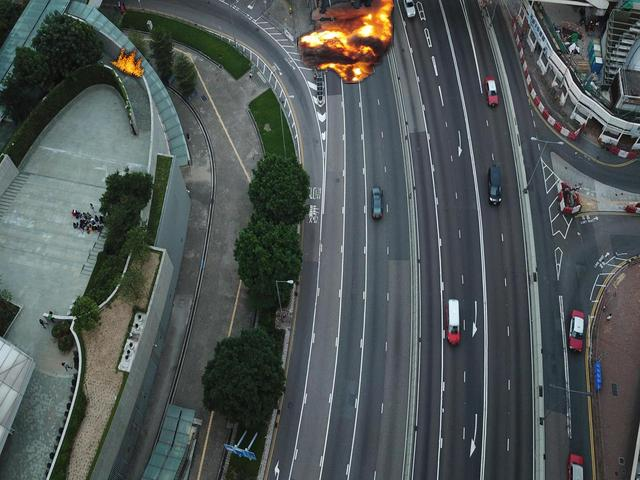fire: (298, 1, 393, 82), (107, 44, 146, 80)
